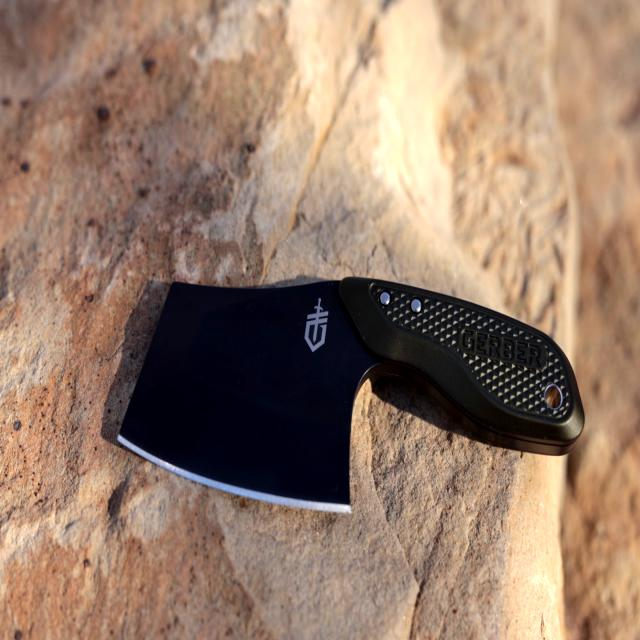cleaver: (113, 274, 585, 520)
